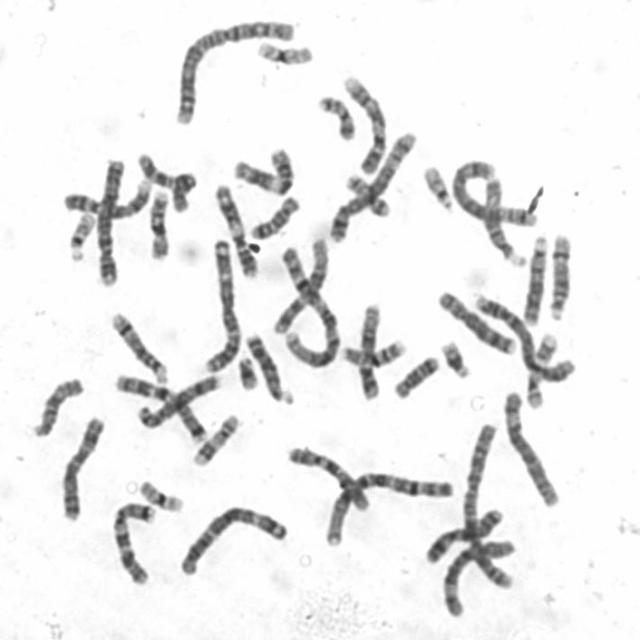A1: (320, 467, 456, 548), (276, 239, 341, 371)
A2: (170, 15, 298, 128), (461, 421, 514, 591)
A3: (176, 501, 290, 577), (199, 235, 242, 374)
B4: (469, 288, 576, 385), (92, 155, 127, 288)
B5: (324, 128, 418, 244), (448, 156, 538, 228)
C10: (284, 443, 372, 513), (138, 156, 198, 213)
C11: (210, 180, 260, 280), (230, 144, 296, 197)
C12: (270, 232, 332, 336), (354, 298, 384, 401)
C6: (500, 386, 561, 508), (438, 534, 517, 622)
C7: (111, 370, 208, 444), (107, 498, 159, 588)
C8: (434, 286, 517, 356), (132, 370, 223, 430)
C9: (339, 72, 389, 176), (61, 174, 154, 220)
D13: (242, 329, 295, 406), (520, 231, 550, 326)
D14: (108, 309, 169, 384), (546, 231, 572, 321)
D15: (478, 173, 528, 269), (28, 373, 85, 439)
E16: (338, 336, 408, 369), (146, 187, 172, 260)
E17: (190, 411, 240, 467), (524, 333, 559, 411)
E18: (246, 192, 300, 241), (390, 352, 440, 400)
F19: (253, 37, 314, 67), (136, 477, 186, 513)
F20: (342, 170, 392, 218), (316, 93, 357, 143)
G21: (438, 338, 472, 380), (235, 352, 259, 392)
G22: (65, 209, 98, 262), (421, 162, 455, 213)
X: (56, 413, 106, 522), (421, 502, 505, 566)
